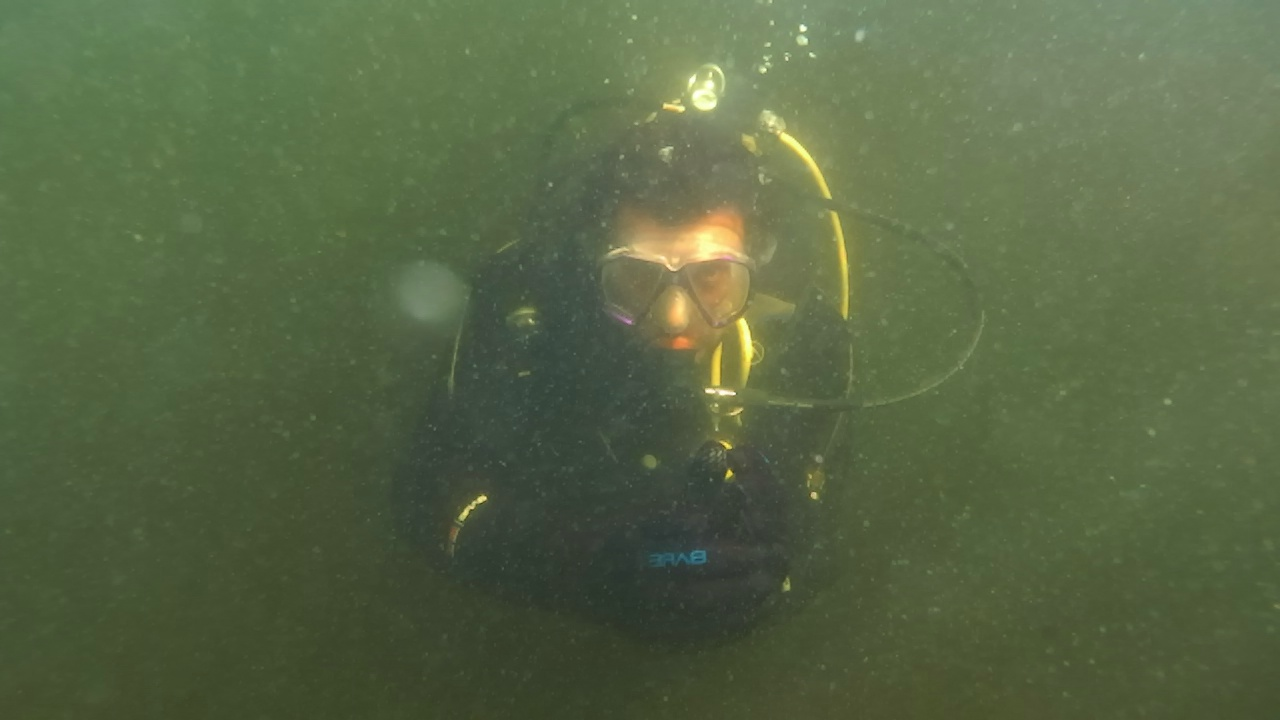Diver: (384, 56, 984, 642)
Hand: (610, 442, 802, 634)
Head: (596, 114, 762, 374)
